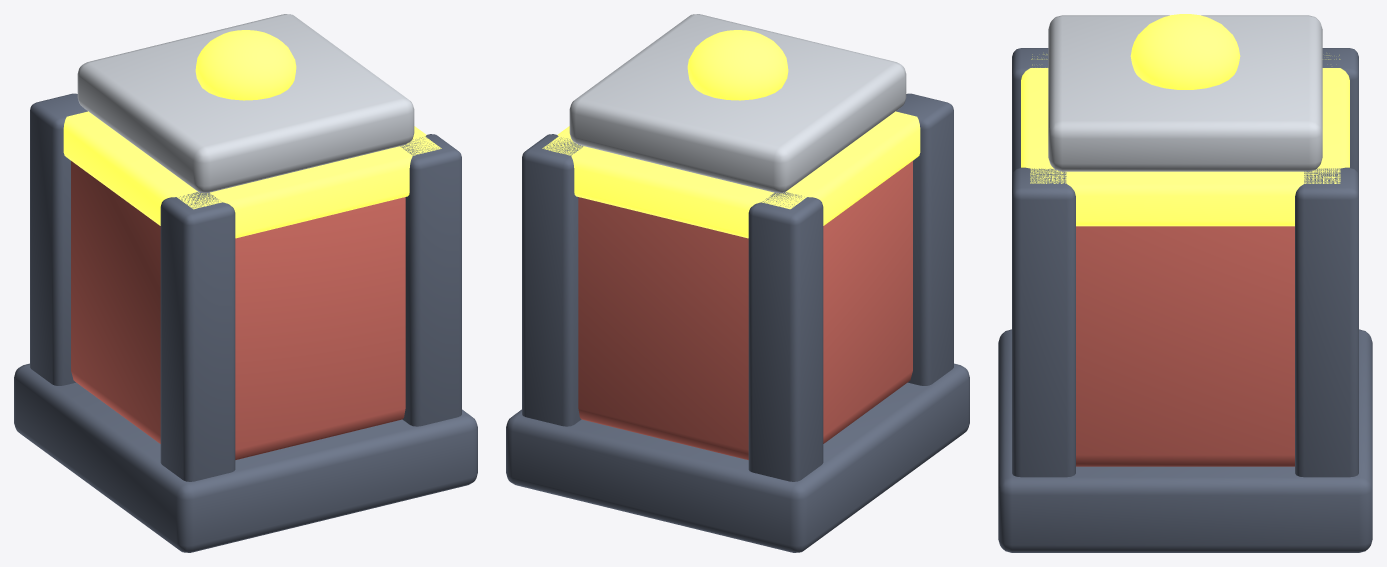
The model's file is runner_barrier.glb.
3 renders of one model, left to right at view 1: azimuth 30°, elevation 25°; view 2: azimuth 150°, elevation 25°; view 3: azimuth 270°, elevation 25°, orthographic. The views are drawn at different scales.
Parts seen in each view (by area): view 1: MainBlock, BasePlinth, TopCap, Rib_-1_-1, GlowBand, Rib_1_-1, Rib_-1_1, TopBeacon; view 2: MainBlock, BasePlinth, TopCap, Rib_-1_1, GlowBand, Rib_1_1, Rib_-1_-1, TopBeacon; view 3: MainBlock, TopCap, BasePlinth, Rib_1_-1, Rib_1_1, GlowBand, TopBeacon, Rib_-1_1, Rib_-1_-1.
Part boxes in pixels (x1,y1,x2,y2): MainBlock: (71, 161, 405, 459); BasePlinth: (14, 363, 477, 552); TopCap: (77, 14, 414, 192); Rib_-1_-1: (160, 192, 235, 481); GlowBand: (63, 111, 441, 238); Rib_1_-1: (400, 134, 461, 426); Rib_-1_1: (30, 93, 87, 385); TopBeacon: (195, 30, 296, 100); MainBlock: (578, 161, 912, 459); BasePlinth: (506, 363, 969, 552); TopCap: (569, 14, 906, 192); Rib_-1_1: (748, 192, 823, 481); GlowBand: (542, 111, 920, 238); Rib_1_1: (522, 134, 583, 426); Rib_-1_-1: (896, 93, 953, 385); TopBeacon: (687, 30, 788, 100); MainBlock: (1076, 226, 1294, 466); TopCap: (1048, 15, 1322, 171); BasePlinth: (998, 329, 1372, 552); Rib_1_-1: (1012, 167, 1075, 477); Rib_1_1: (1295, 167, 1358, 477); GlowBand: (1021, 54, 1349, 226); TopBeacon: (1130, 14, 1240, 89); Rib_-1_1: (1322, 48, 1358, 175); Rib_-1_-1: (1012, 48, 1048, 175).
Bounding box in the file's own units: 0.82 × 1.11 × 0.82.
